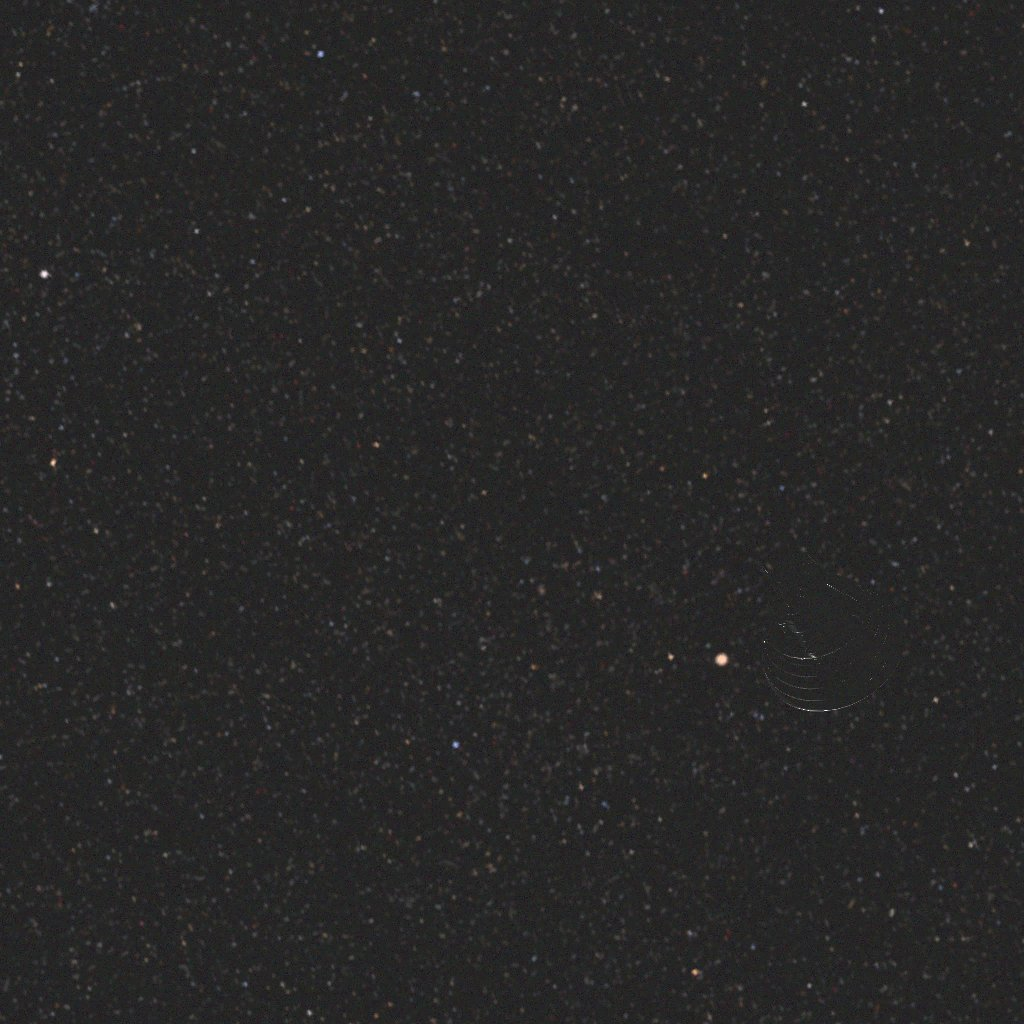debris: (759, 550, 905, 711)
